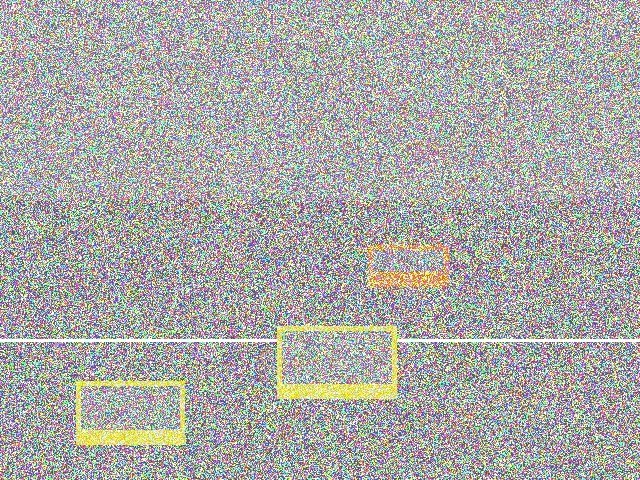truck: (60, 336, 230, 437)
